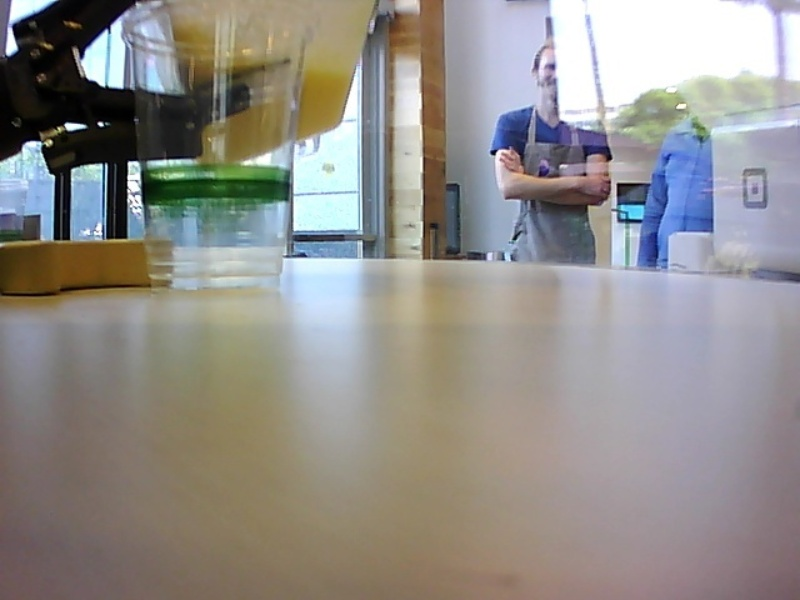cup: (117, 1, 313, 284)
